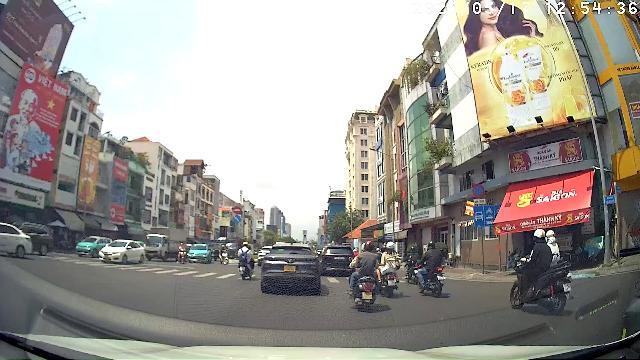131a-cam-do-xe: (472, 184, 486, 198)
